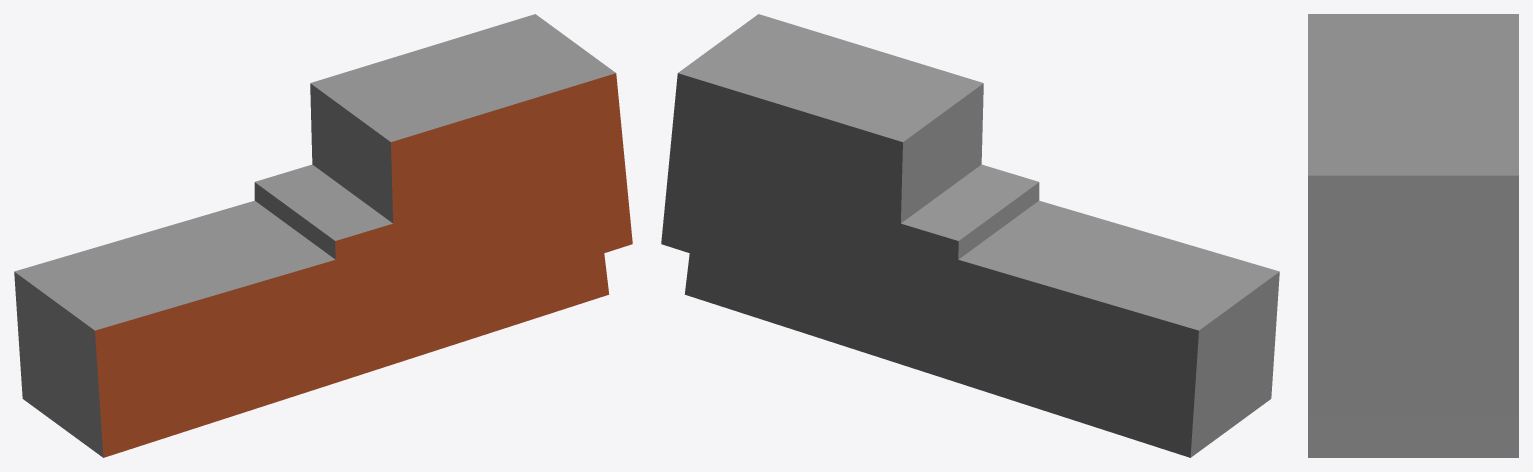
File: construction_3369_assumed_A_Casa_h6m.obj
The picture shows the model from 3 angles, left to right: view 1: azimuth 30°, elevation 25°; view 2: azimuth 150°, elevation 25°; view 3: azimuth 270°, elevation 25°; orthographic projection. The views are drawn at different scales.
Parts seen in each view (by area): view 1: construction_3369_assumed_A_Casa; view 2: construction_3369_assumed_A_Casa; view 3: construction_3369_assumed_A_Casa.
Part boxes in pixels (x1,y1,x2,y2): construction_3369_assumed_A_Casa: [14, 14, 632, 457]; construction_3369_assumed_A_Casa: [661, 14, 1279, 457]; construction_3369_assumed_A_Casa: [1308, 14, 1518, 457].
Size of the model in its own units: 23.06 by 10.64 by 6.
